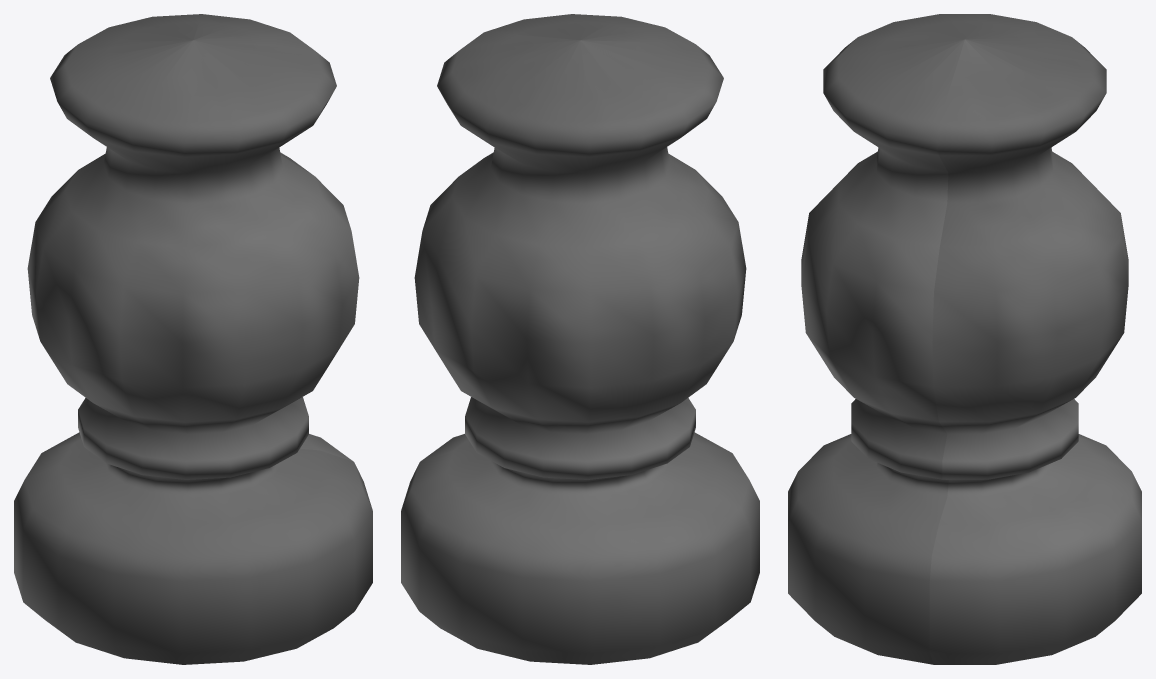
The model's file is polefinial_urn.obj.
3 views of the same model, side by side, from view 1: azimuth 30°, elevation 25°; view 2: azimuth 150°, elevation 25°; view 3: azimuth 270°, elevation 25° (orthographic).
Parts seen in each view (by area): view 1: polefinial_urn; view 2: polefinial_urn; view 3: polefinial_urn.
Part boxes in pixels (x1,y1,x2,y2): polefinial_urn: (14,14,372,664); polefinial_urn: (401,14,759,664); polefinial_urn: (788,14,1141,664).
Size of the model in its own units: 0.4291 by 0.75 by 0.4291.
